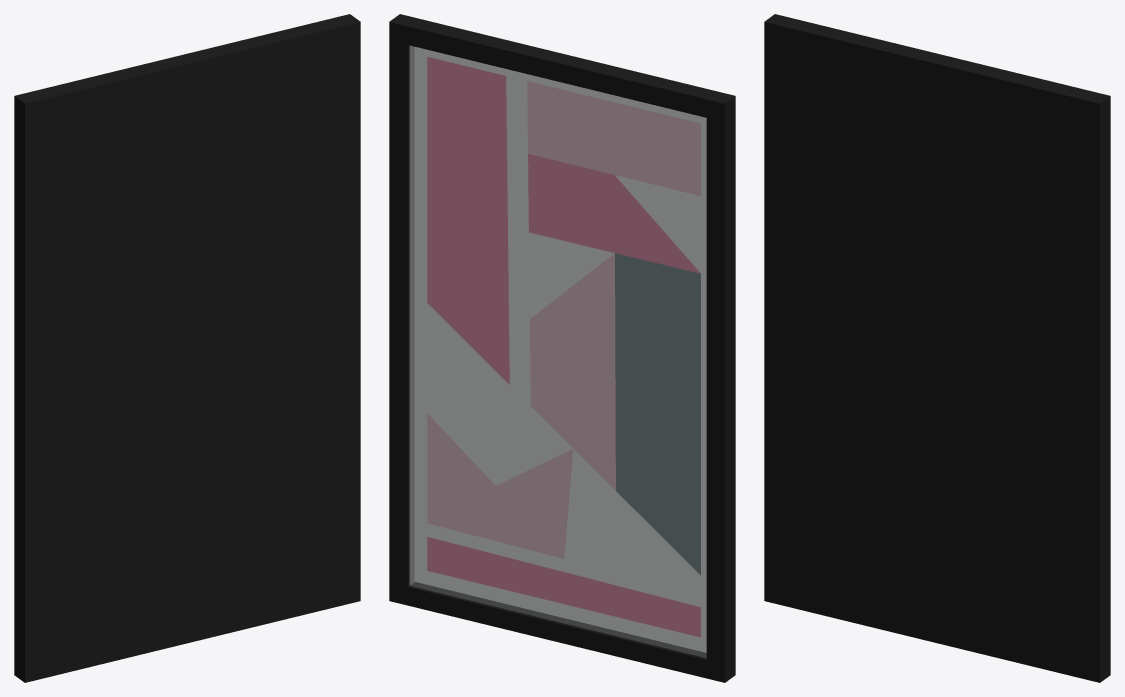
Rendered from paint2.fbx.
The picture shows the model from 3 angles, left to right: view 1: azimuth 30°, elevation 25°; view 2: azimuth 150°, elevation 25°; view 3: azimuth 330°, elevation 25°; orthographic projection.
Visible parts, largest first — view 1: Node; view 2: Node; view 3: Node.
Boxes of the visible parts, <box> form: Node: <box>14,14,360,682</box>; Node: <box>389,14,735,682</box>; Node: <box>764,14,1110,682</box>.
Bounding box in the file's own units: 54 × 89 × 3.
